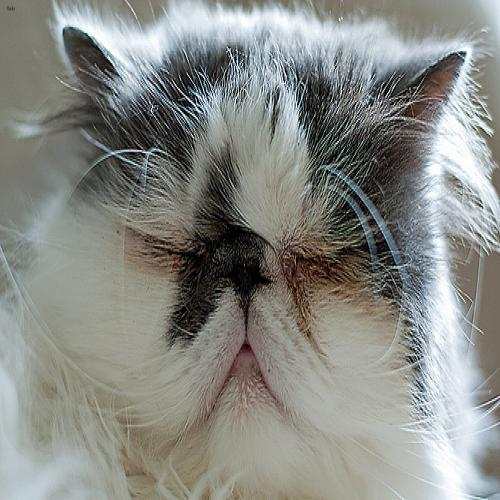persian: (52, 9, 467, 475)
